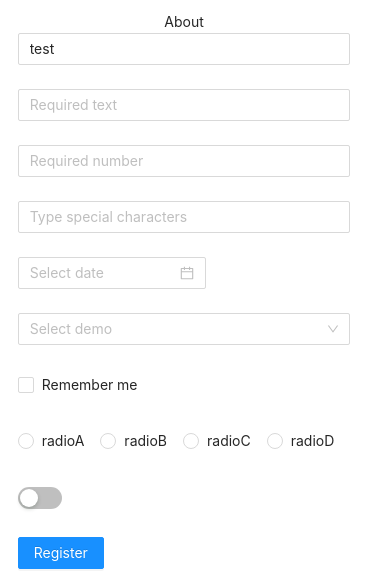
Test: Home › should show an error when input is not numbers only
In the field with test id "requiredNumber": (184, 161) [18,145,350,177], type "abcdef"
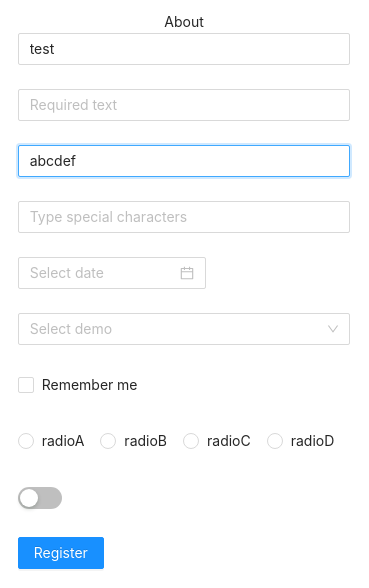
Click the button with test id "submitFormBtn": click(61, 553) [18,537,104,569]
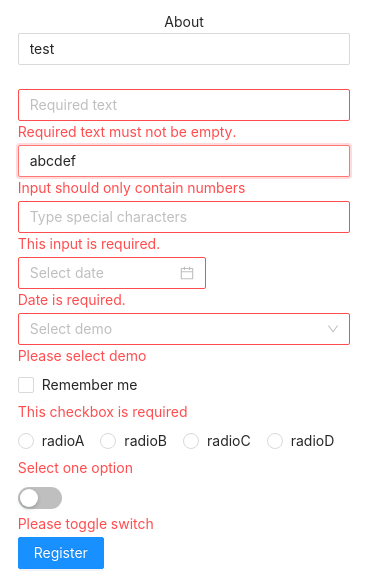
Now the text "Input should only contain numbers" is shown, box [18,179,246,196]
